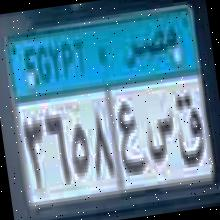3: (20, 119, 52, 192)
5: (69, 124, 92, 178)
6: (44, 114, 74, 188)
8: (89, 110, 114, 179)
ain: (116, 99, 148, 176)
qaaf: (172, 90, 208, 166)
seen: (144, 108, 180, 164)
